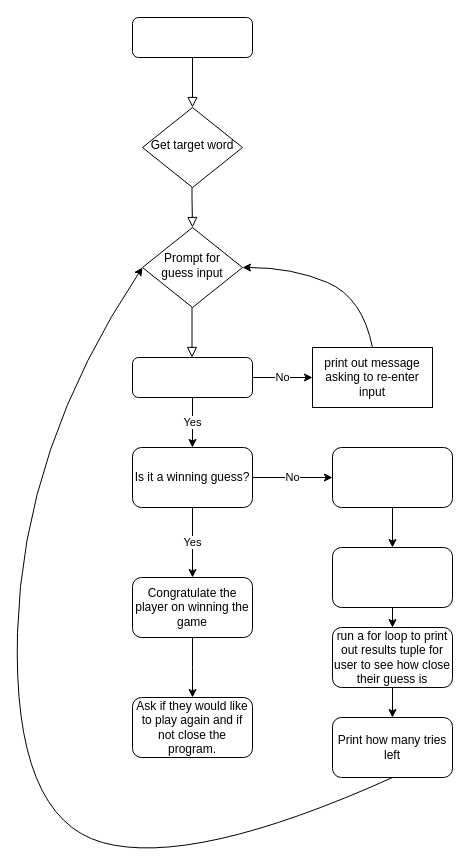
Image size: 471x866. Some labels were removed from this diagram. The shapes that lost their labels are listed below. From the top down, each one's centre as x and y in pixels, then its label:
the point at 192,37: Start
the point at 192,377: Is the input valid? Check against all_words
the point at 392,477: Count + 1
the point at 392,577: Compare guess and target word to see how similiar and return in tuple
